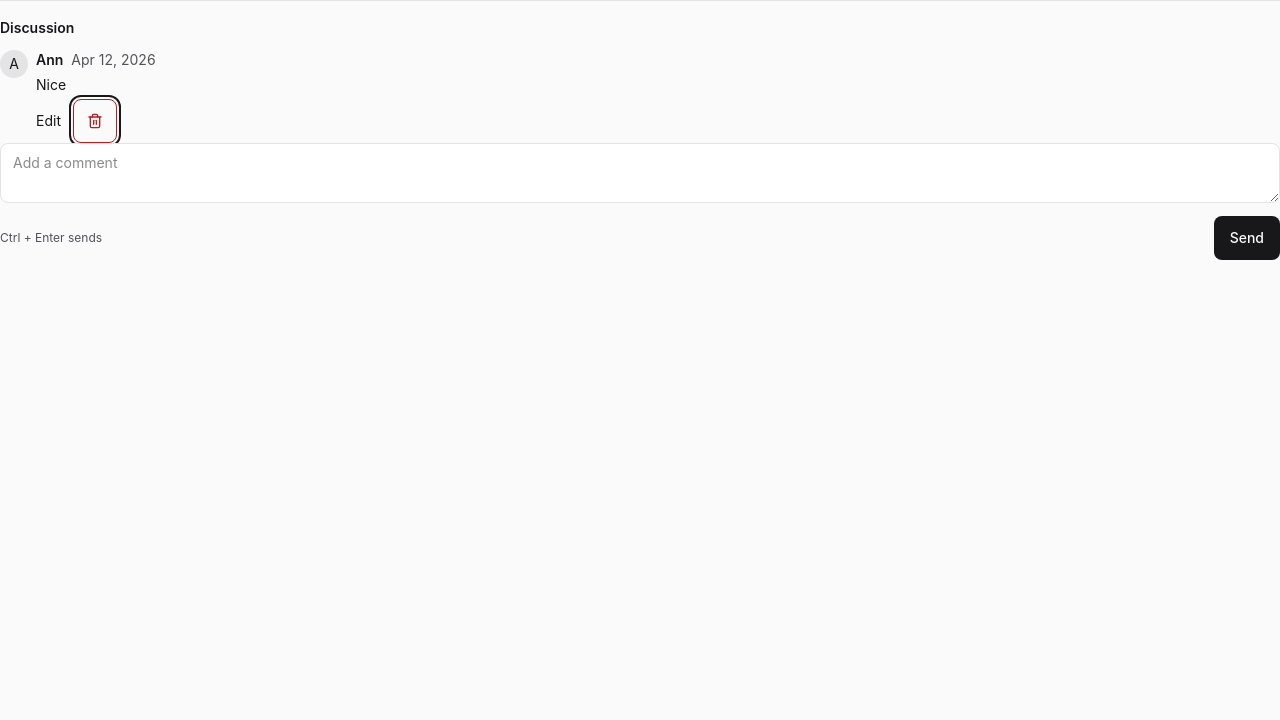
Test: comment delete control › T-31-07 opens the confirm dialog, Cancel returns focus
Click the button with test id "comment-delete" at (95, 121), box [73, 99, 117, 143]
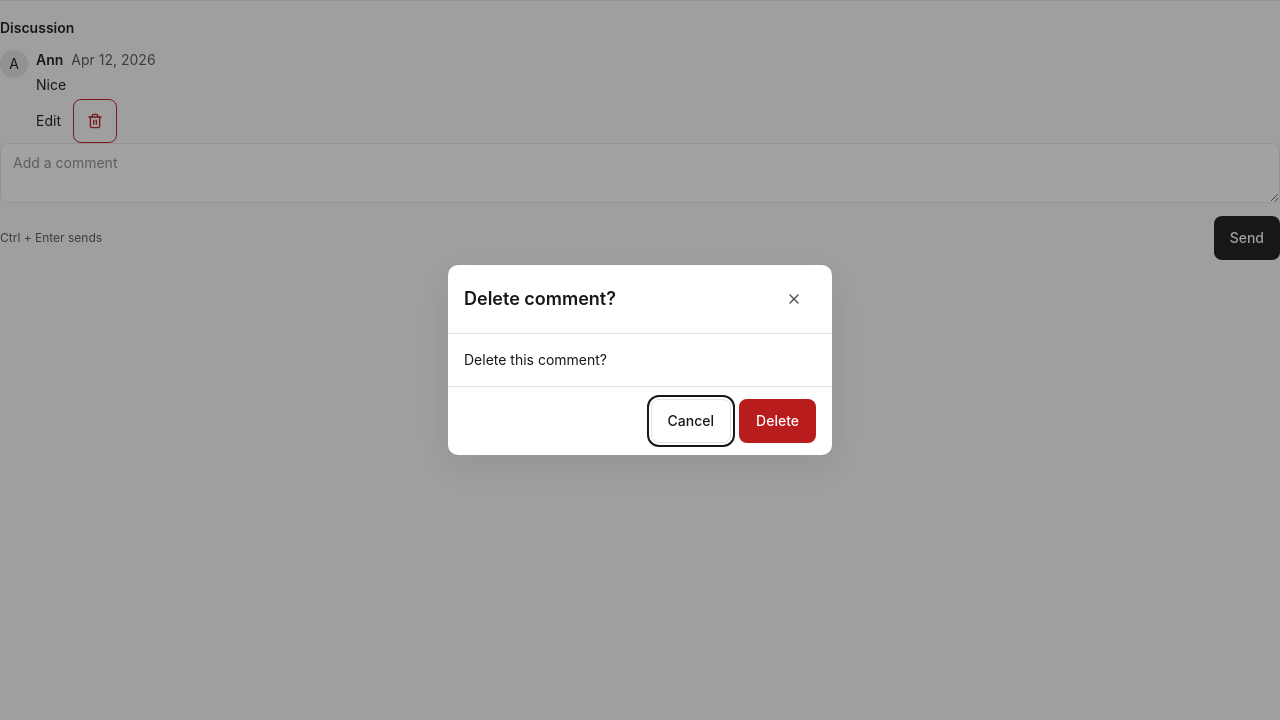
Result: the dialog is shown at [448, 265, 832, 455]
Click the button "Cancel" at (691, 421), box [651, 399, 731, 443]
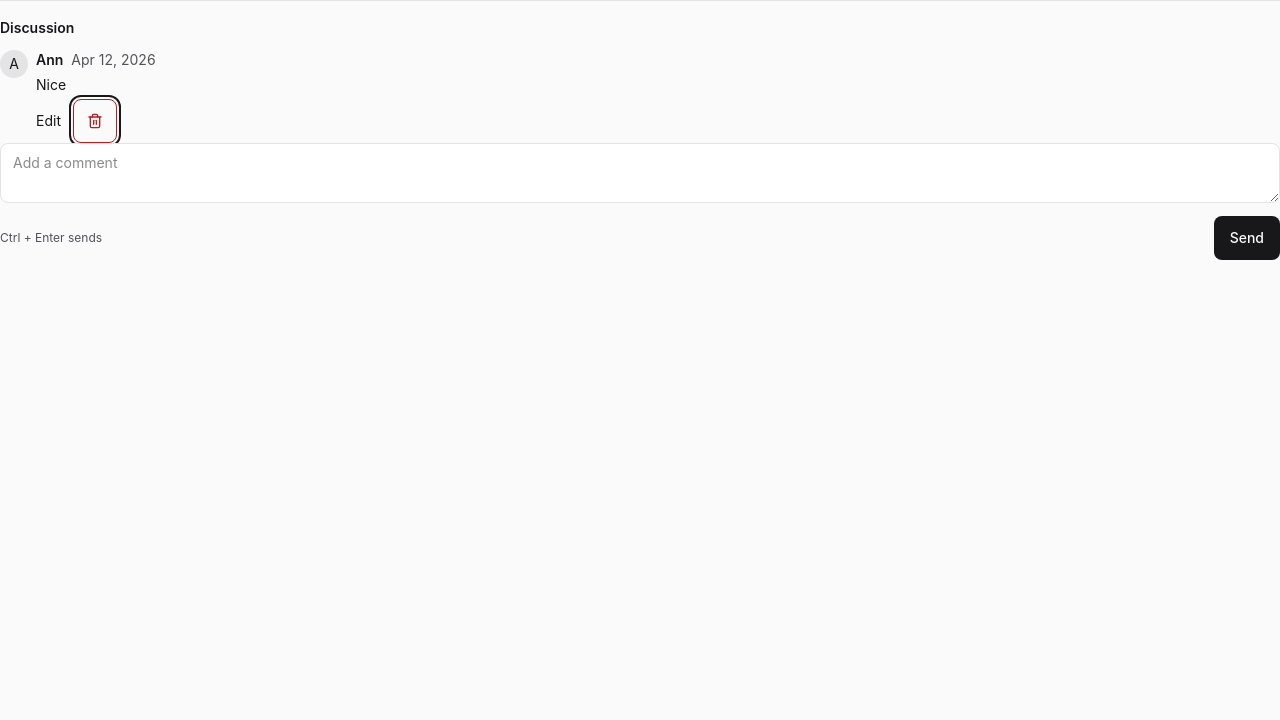
Result: the dialog is gone
